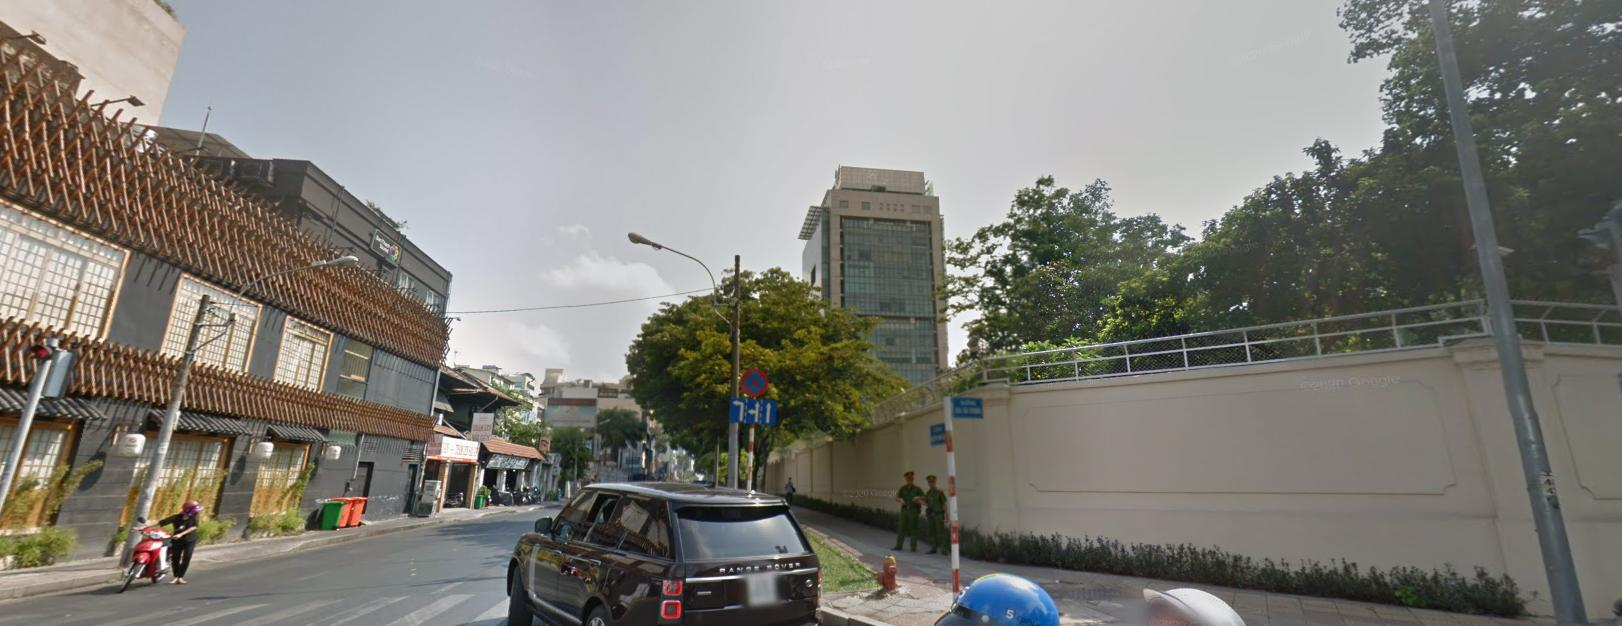Cam dung va do: (741, 368, 768, 395)
